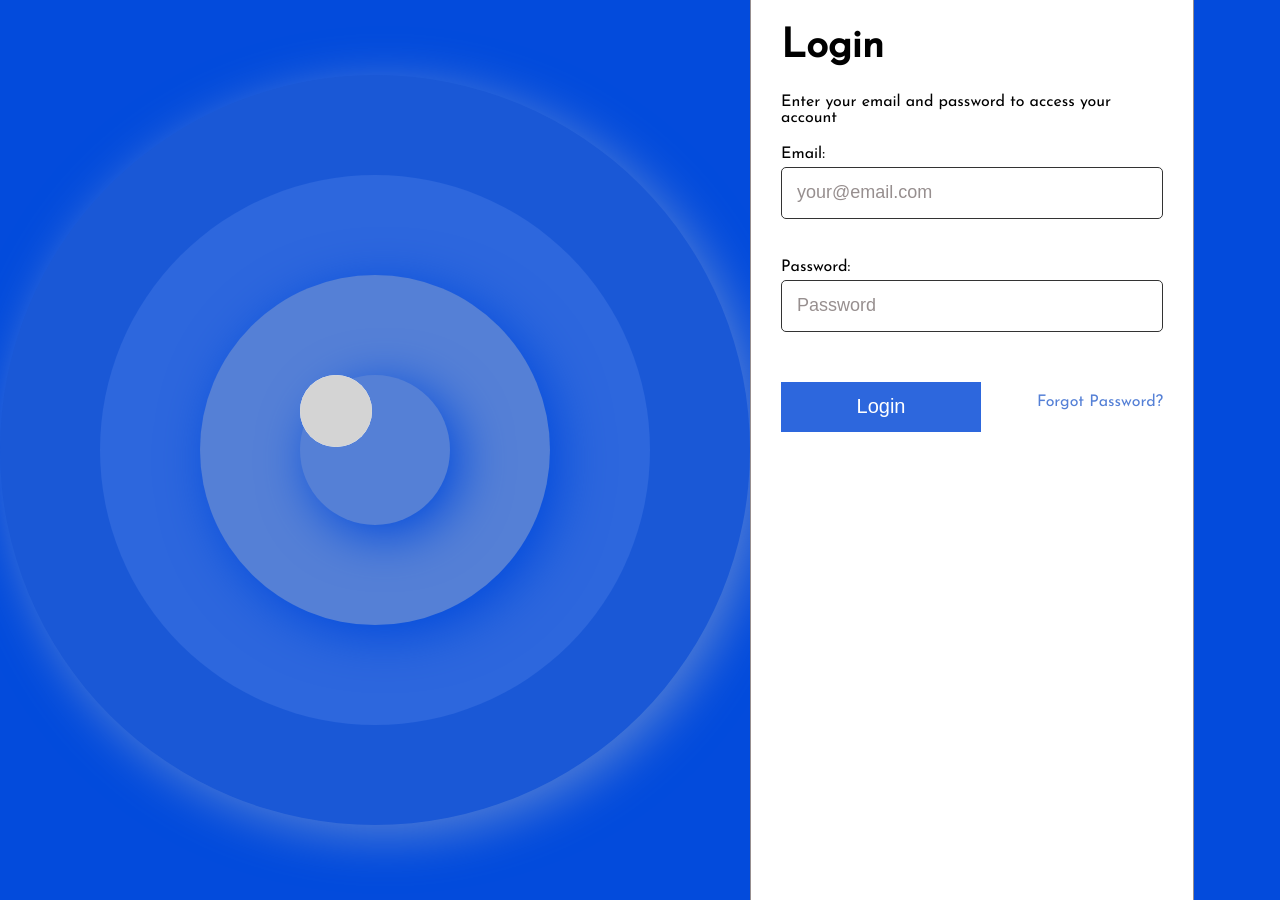
Test: SignIn › shows the real server error message when login fails
Type "a@b.cm" into the field with placeholder "your@email.com".
click(972, 193); type("a@b.cm")  # box [781,167,1163,219]
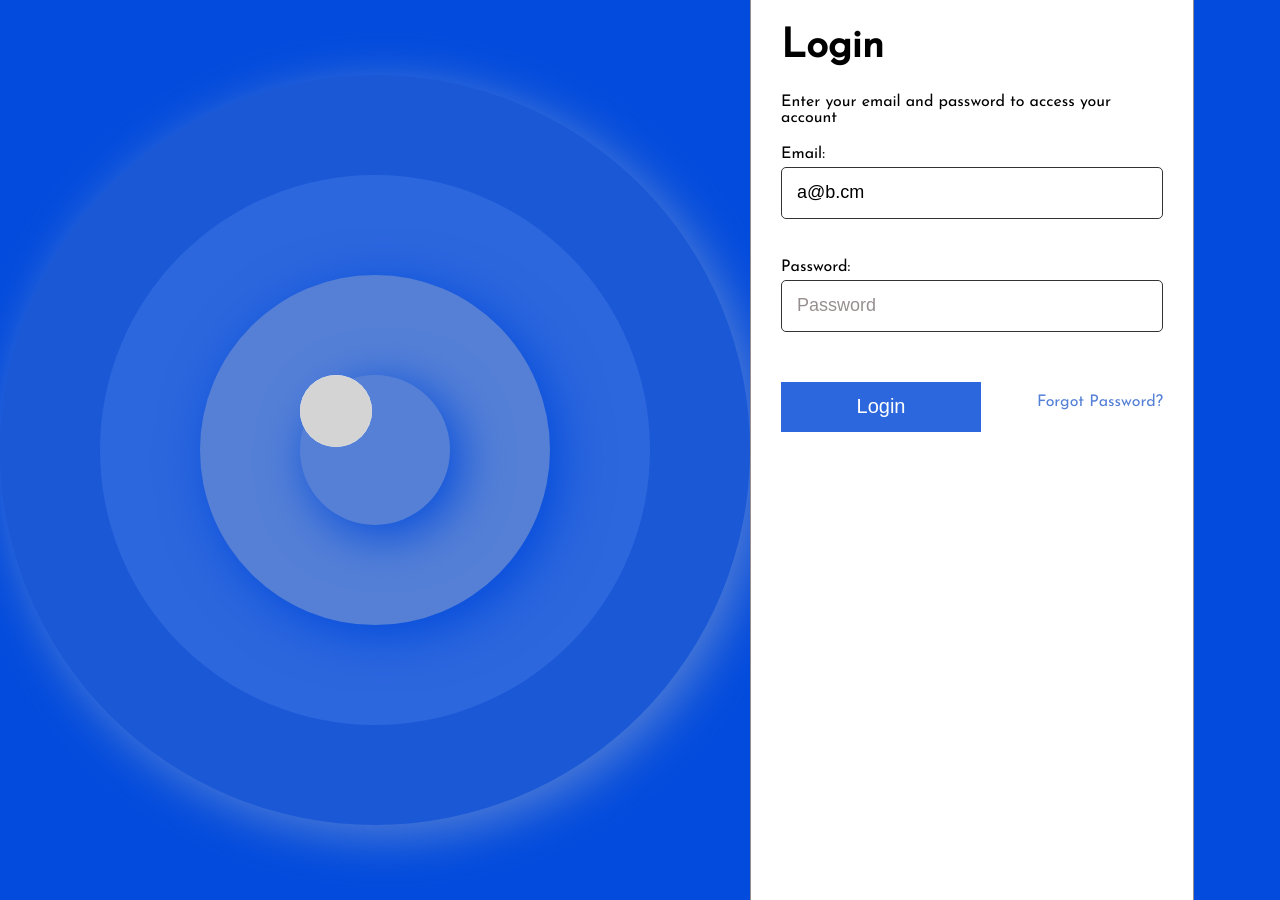
Type "wrong" into the password field with placeholder "Password".
click(972, 306); type("wrong")  # box [781,280,1163,332]
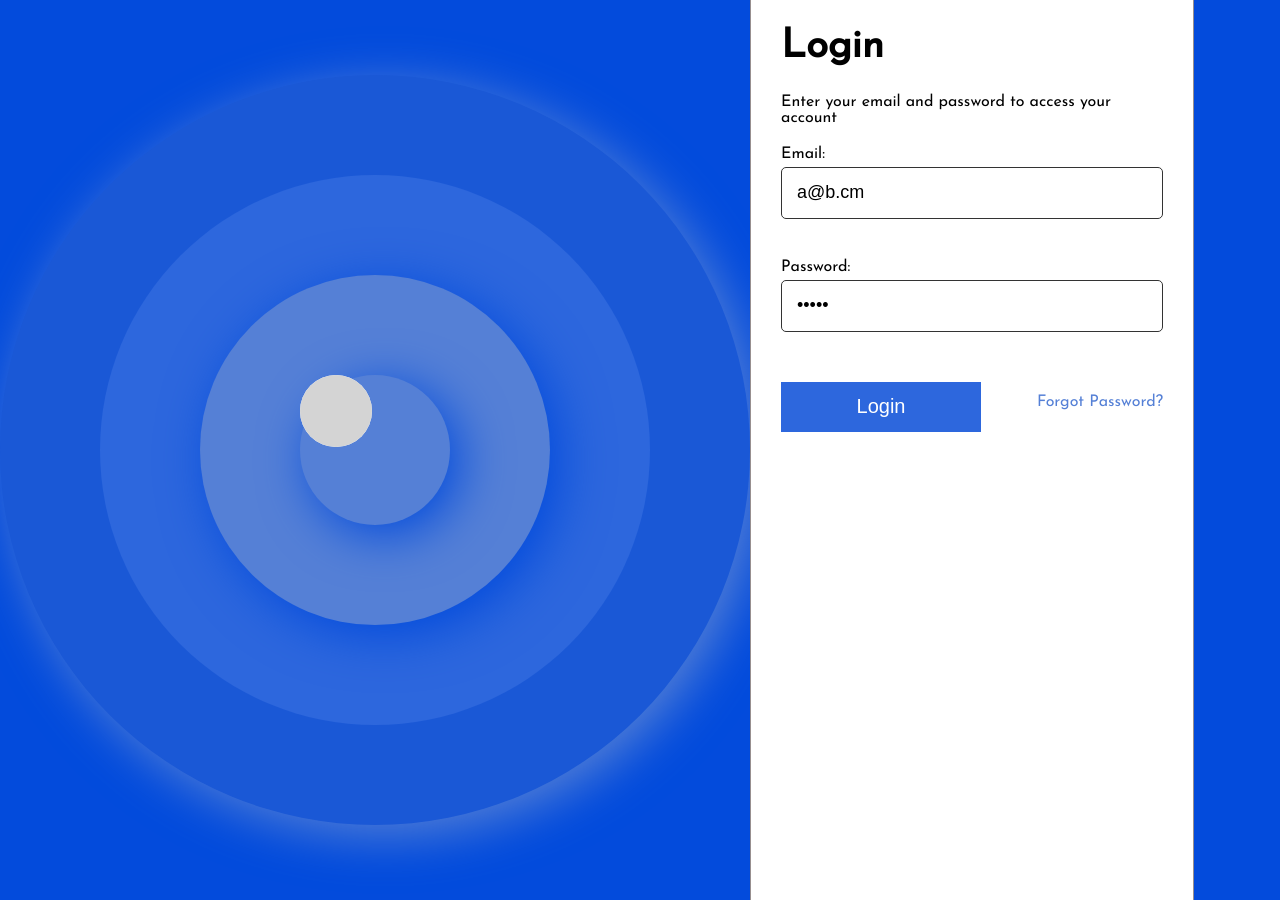
Click the button "Login".
click(881, 407)  # box [781,382,981,432]
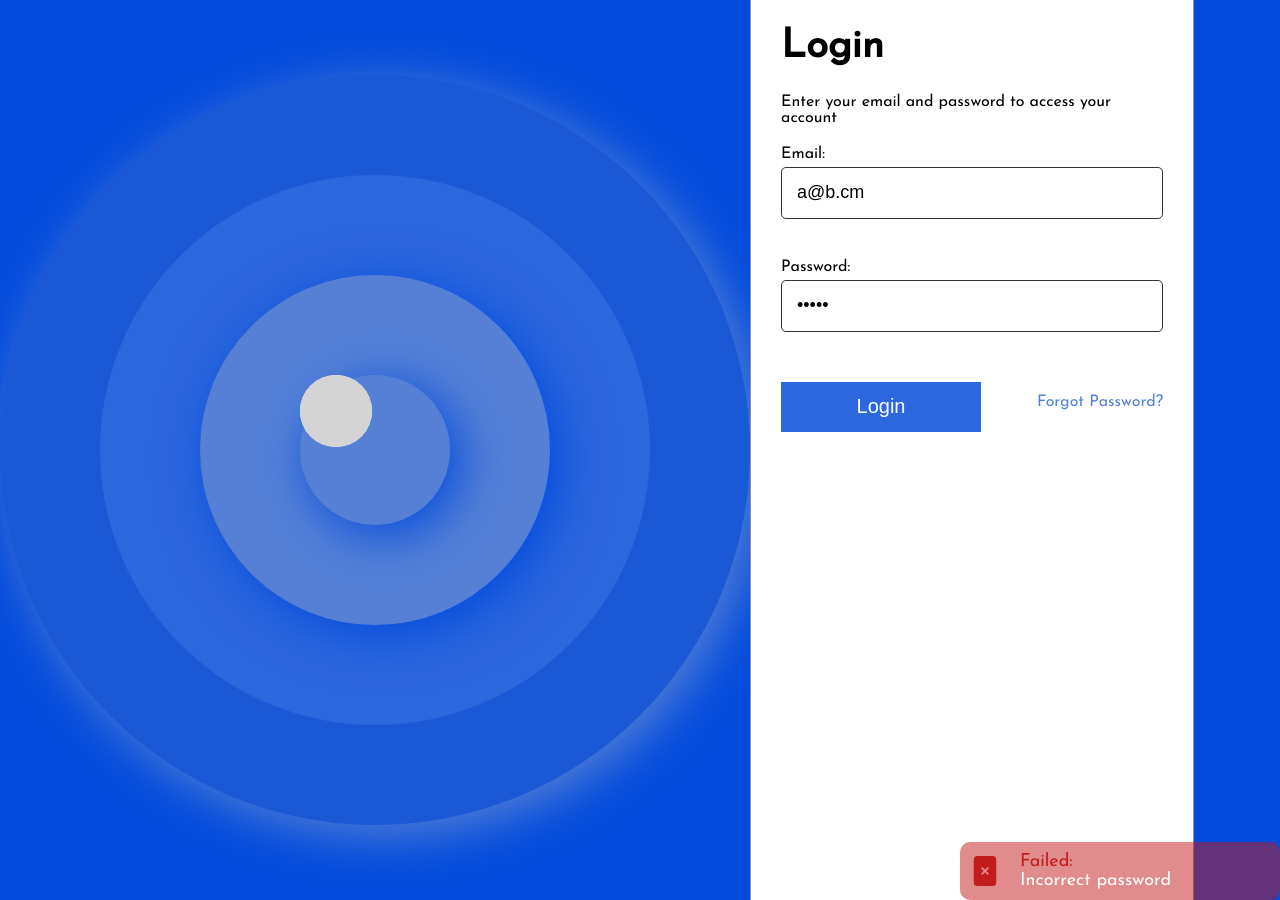
Check: the text "Incorrect password" is shown, box [1020,871,1171,890]
